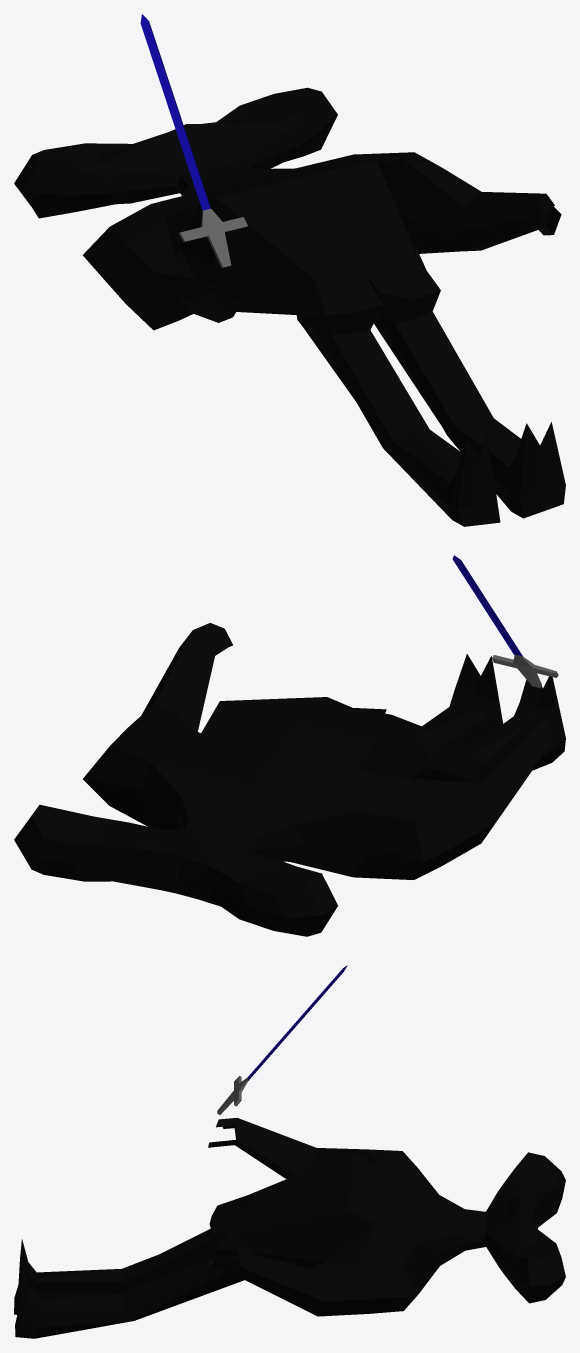
The model's file is Swordsmand3.obj.
3 renders of one model, top to bottom at view 1: azimuth 30°, elevation 25°; view 2: azimuth 150°, elevation 25°; view 3: azimuth 270°, elevation 25°, orthographic. The views are drawn at different scales.
Visible parts, largest first — view 1: Cube, Plane; view 2: Cube, Plane; view 3: Cube, Plane.
Part boxes in pixels (box(x1,y1,x2,y2)): Cube: box(14, 87, 565, 526); Plane: box(140, 14, 247, 267); Cube: box(14, 623, 565, 936); Plane: box(452, 555, 558, 688); Cube: box(14, 1118, 565, 1338); Plane: box(217, 965, 347, 1114).
Bounding box in the file's own units: 0.9677 × 0.9582 × 1.6.
